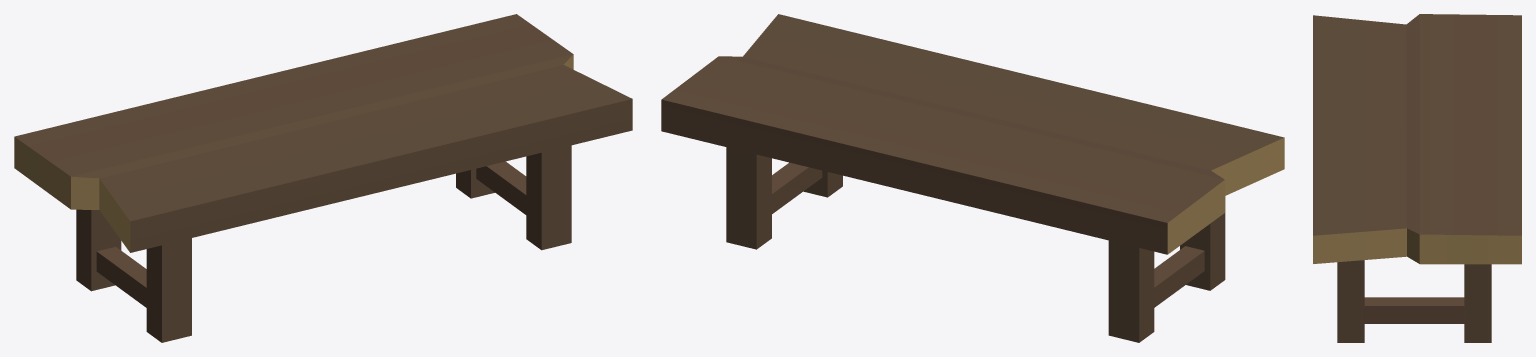
The model's file is SM_Bench.FBX.
The picture shows the model from 3 angles, left to right: view 1: azimuth 30°, elevation 25°; view 2: azimuth 150°, elevation 25°; view 3: azimuth 270°, elevation 25°; orthographic projection. The views are drawn at different scales.
Visible parts, largest first — view 1: SM_Bench; view 2: SM_Bench; view 3: SM_Bench.
Boxes of the visible parts, x1,y1,x2,y2 form: SM_Bench: (14,14,632,342); SM_Bench: (661,14,1284,342); SM_Bench: (1313,14,1521,342).
Size of what is drawn, in the model's own units: 200 by 80 by 54.69.
